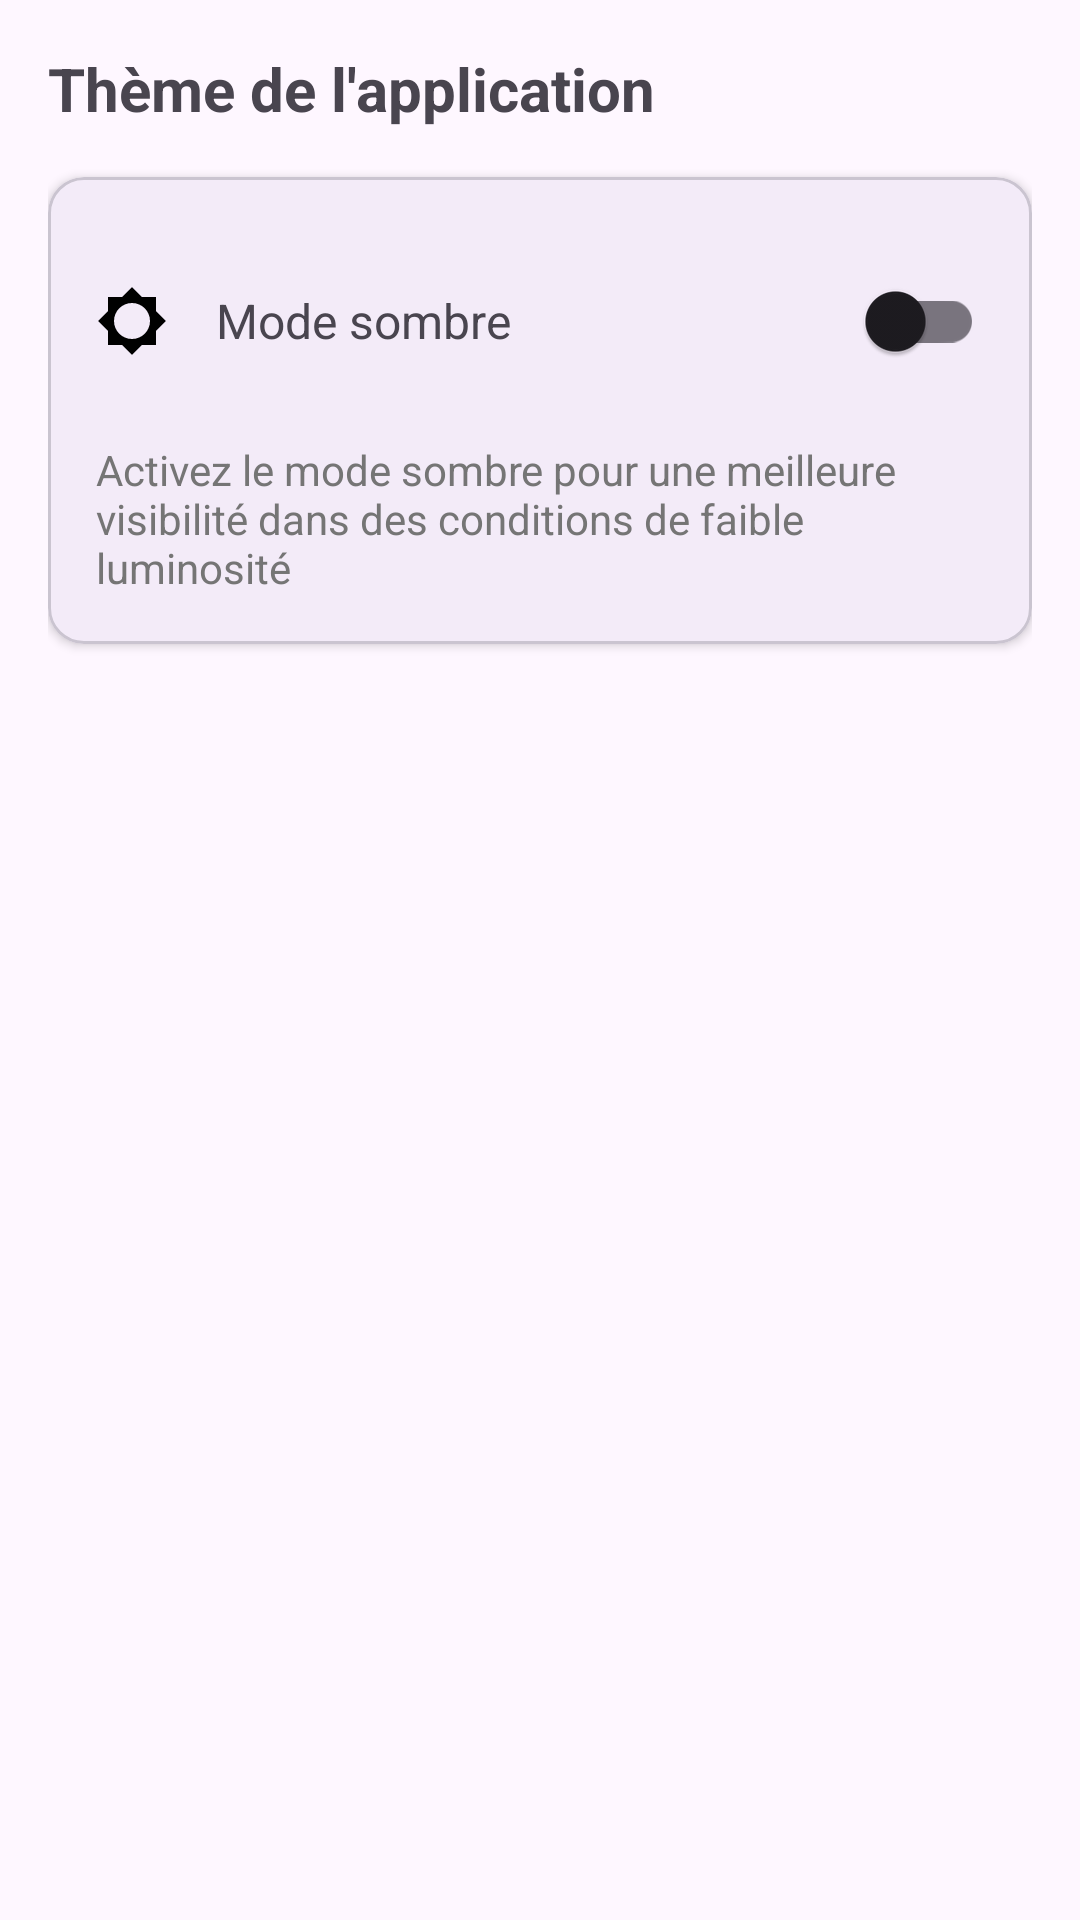

Where to tap for icons on this 1080px×1920px app screen, as point (x, y):
brightness: point (132, 321)
